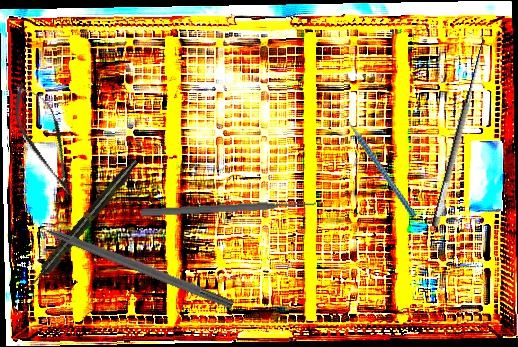Chopper: (331, 97, 417, 231)
Handpiece: (22, 156, 142, 294)
Hook Surgical: (19, 212, 236, 311), (416, 31, 492, 229)
Micro Scissor: (2, 74, 89, 208)
Pusher: (140, 198, 317, 219)
